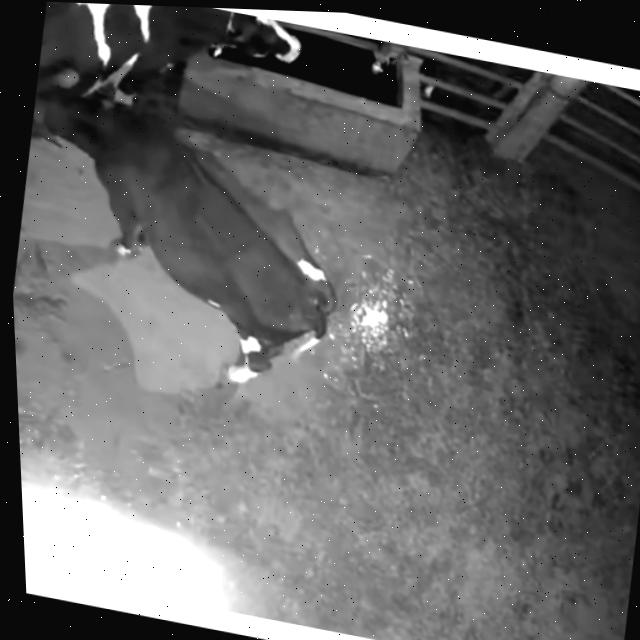drink: (146, 5, 336, 114)
